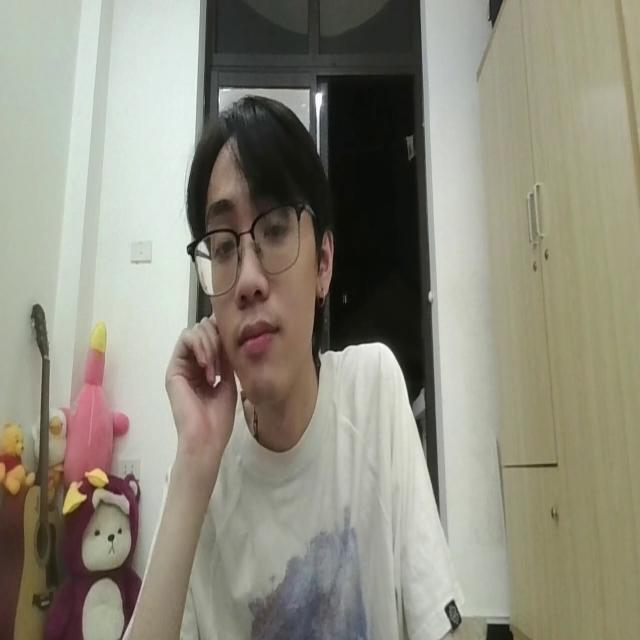student: (130, 94, 453, 640)
